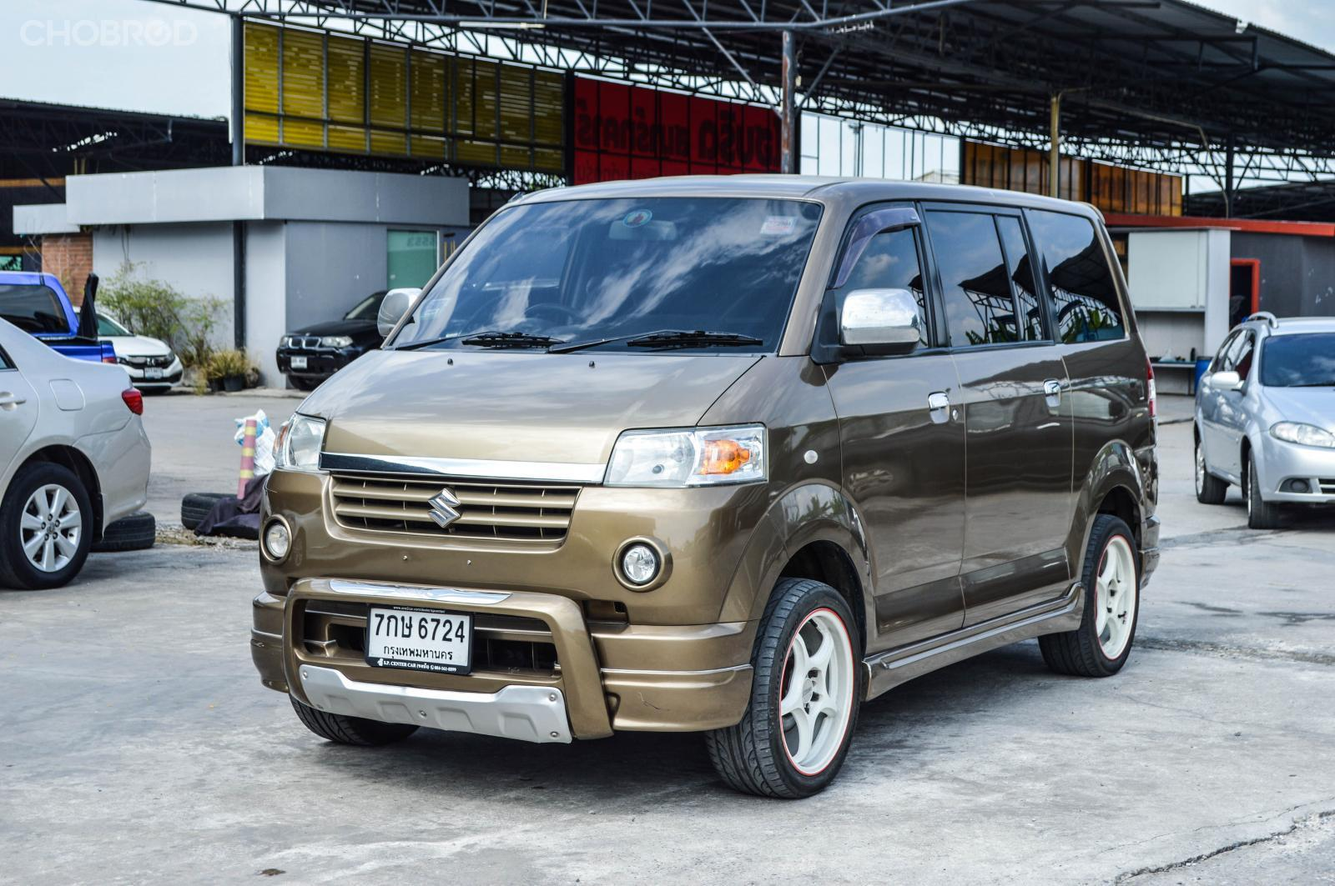license-plate: (363, 604, 475, 677), (288, 352, 310, 372), (144, 367, 162, 381)
